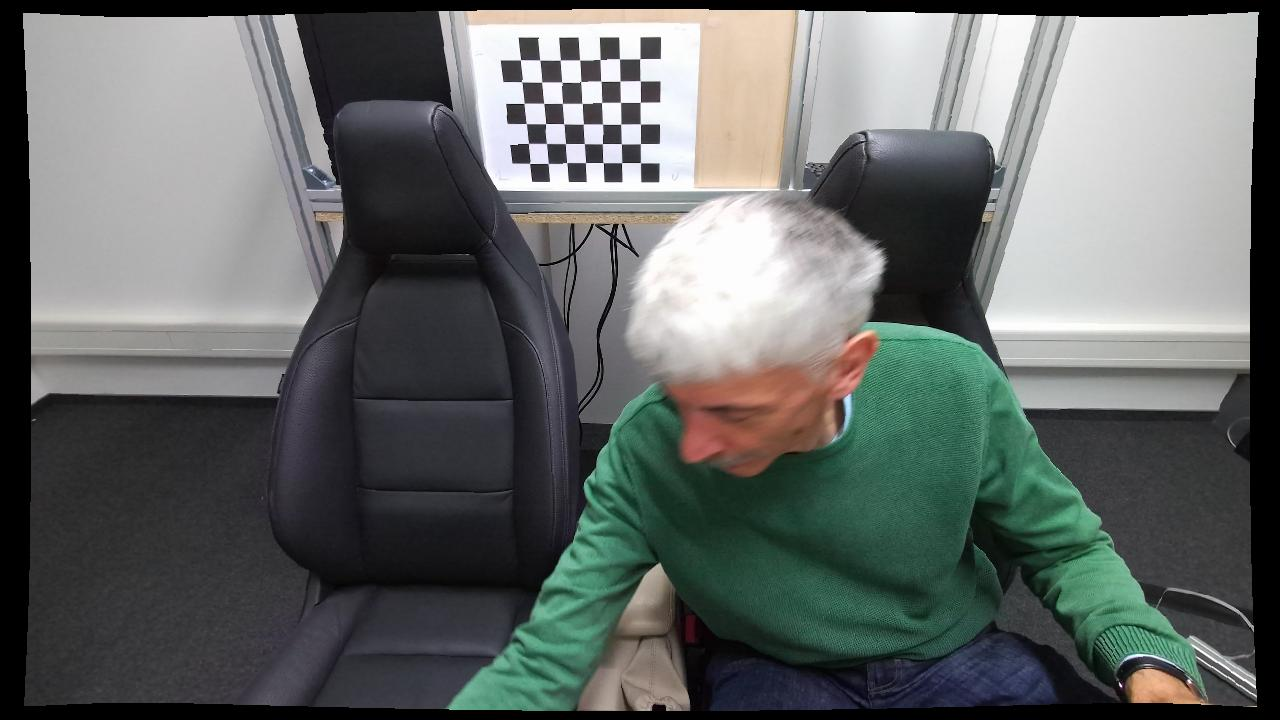Distracted: (446, 192, 1248, 709)
